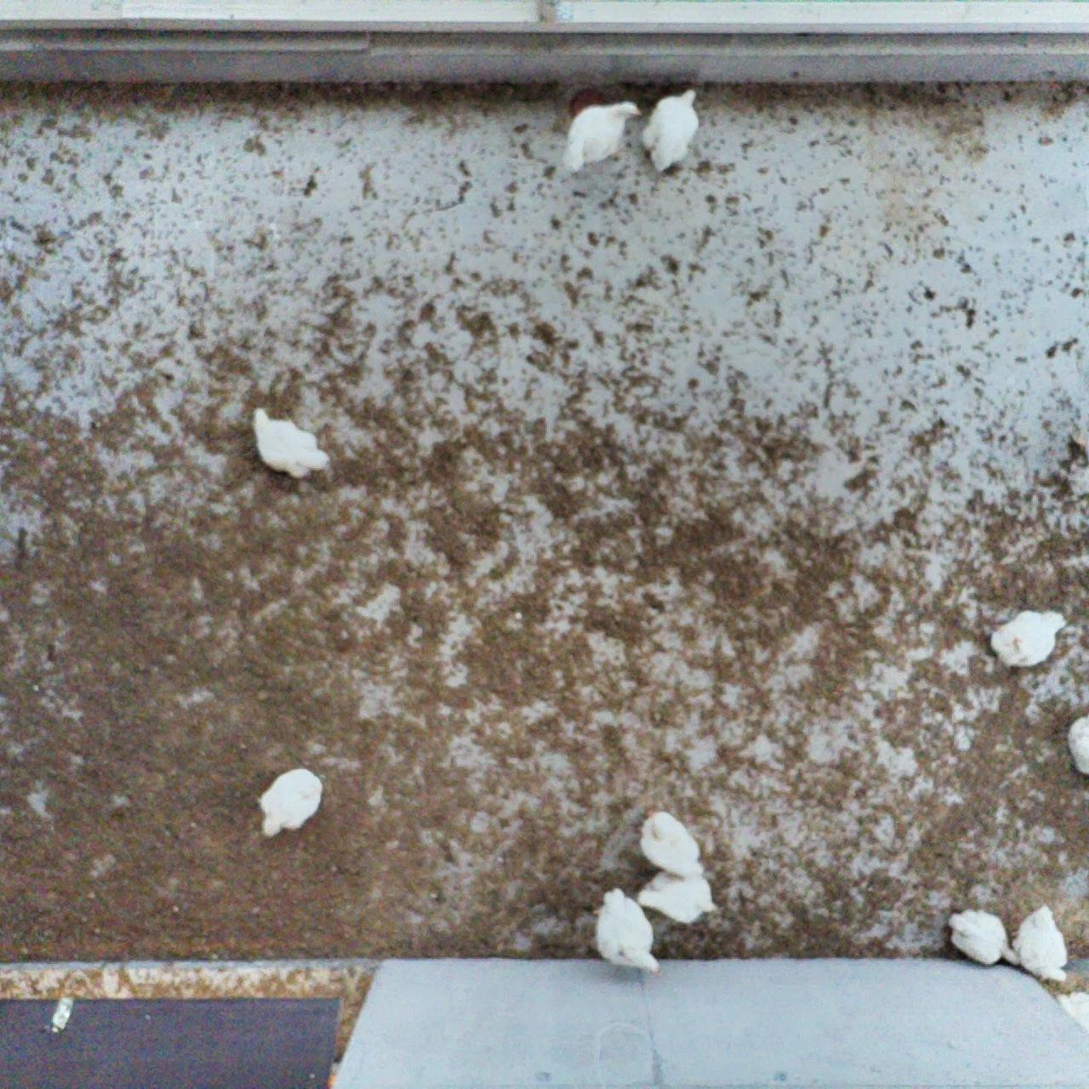chicken: (555, 90, 644, 172), (245, 402, 335, 482), (588, 887, 663, 976), (637, 80, 704, 176), (987, 601, 1069, 670), (629, 869, 723, 929), (635, 806, 708, 881), (254, 765, 325, 841), (1009, 902, 1070, 986), (943, 905, 1023, 969), (1062, 708, 1089, 778), (1052, 985, 1089, 1036)
